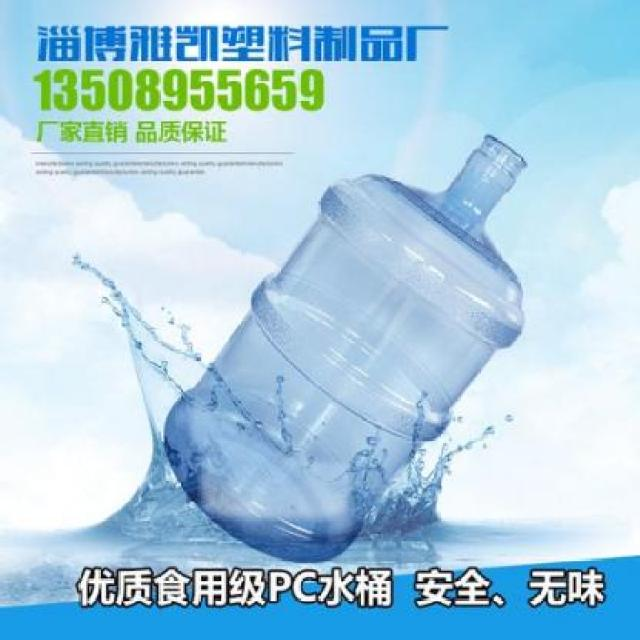coolerbottle: (162, 123, 530, 568)
